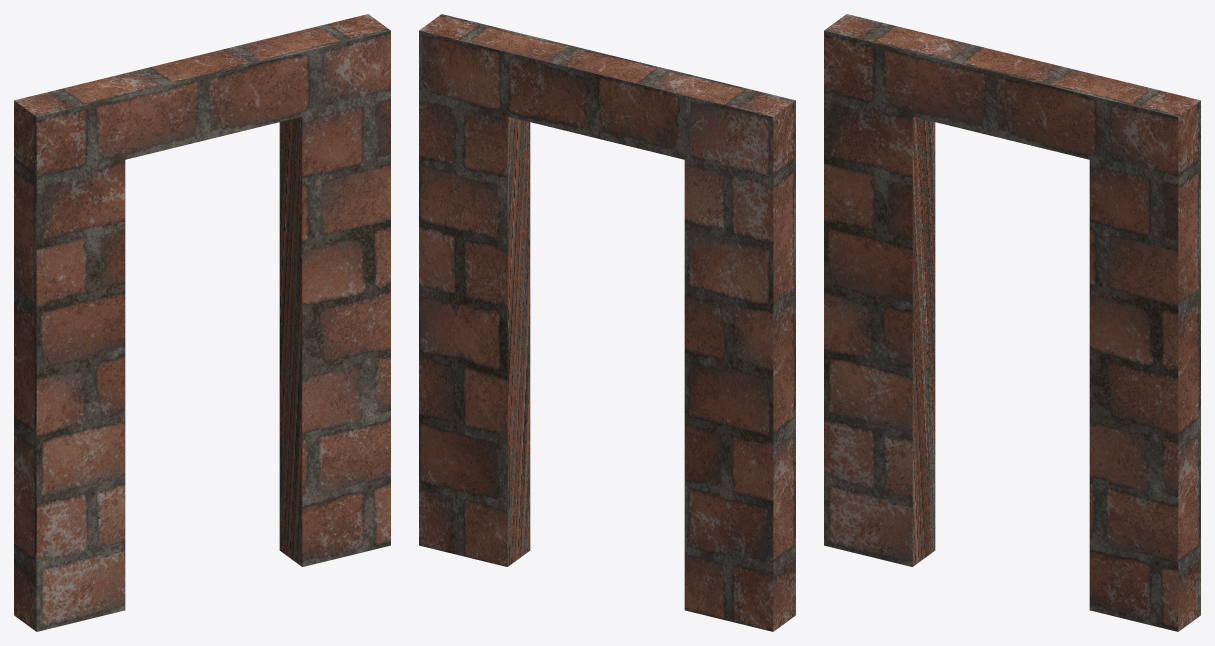
Rendered from wallForDoor.fbx.
3 views of the same model, side by side, from view 1: azimuth 30°, elevation 25°; view 2: azimuth 150°, elevation 25°; view 3: azimuth 330°, elevation 25° (orthographic).
Visible parts, largest first — view 1: Cube; view 2: Cube; view 3: Cube.
Boxes of the visible parts, x1=… form: Cube: x1=14, y1=14, x2=390, y2=631; Cube: x1=419, y1=14, x2=795, y2=631; Cube: x1=824, y1=14, x2=1200, y2=631.
Bounding box in the file's own units: 180 × 250 × 20.
